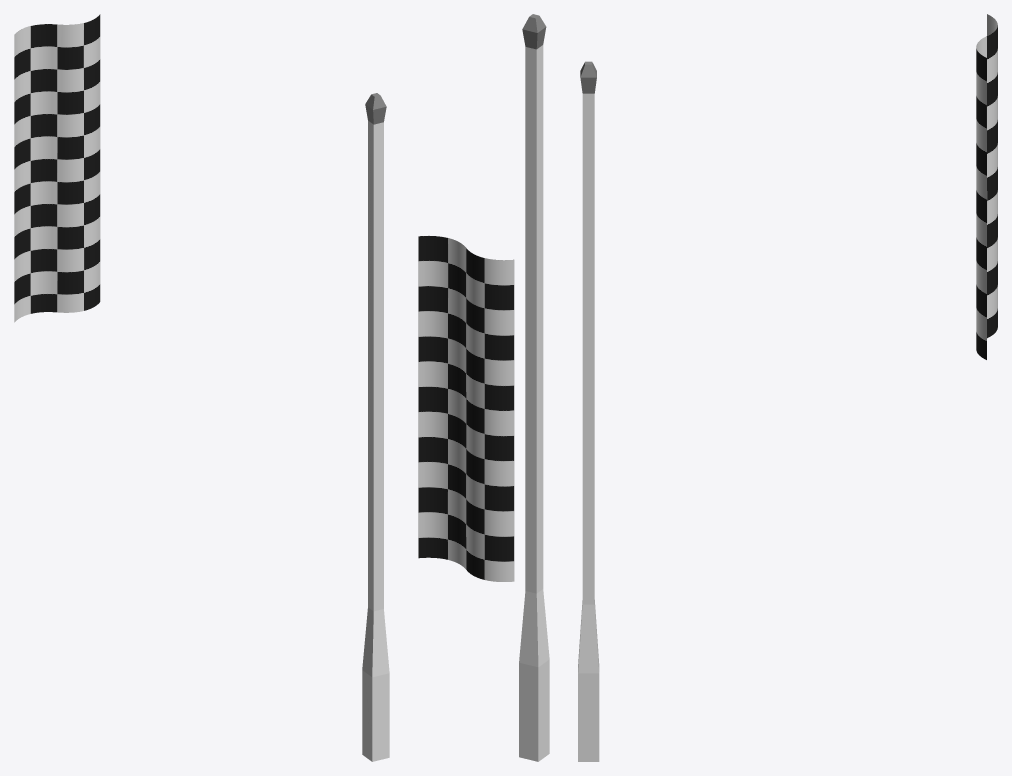
The model's file is flagCheckers.glb.
3 renders of one model, left to right at view 1: azimuth 30°, elevation 25°; view 2: azimuth 150°, elevation 25°; view 3: azimuth 270°, elevation 25°, orthographic. The views are drawn at different scales.
Visible parts, largest first — view 1: flagCheckers(Clone), Group; view 2: flagCheckers(Clone), Group; view 3: Group, flagCheckers(Clone).
Boxes of the visible parts, left/top/right/bottom form: flagCheckers(Clone): left=14, top=14, right=100, bottom=322; Group: left=362, top=93, right=389, bottom=761; flagCheckers(Clone): left=418, top=235, right=514, bottom=581; Group: left=519, top=14, right=549, bottom=761; Group: left=578, top=61, right=599, bottom=761; flagCheckers(Clone): left=976, top=14, right=997, bottom=359.
Size of the model in its own units: 0.3572 by 1.25 by 0.6848.
4 materials, 1 textured.
